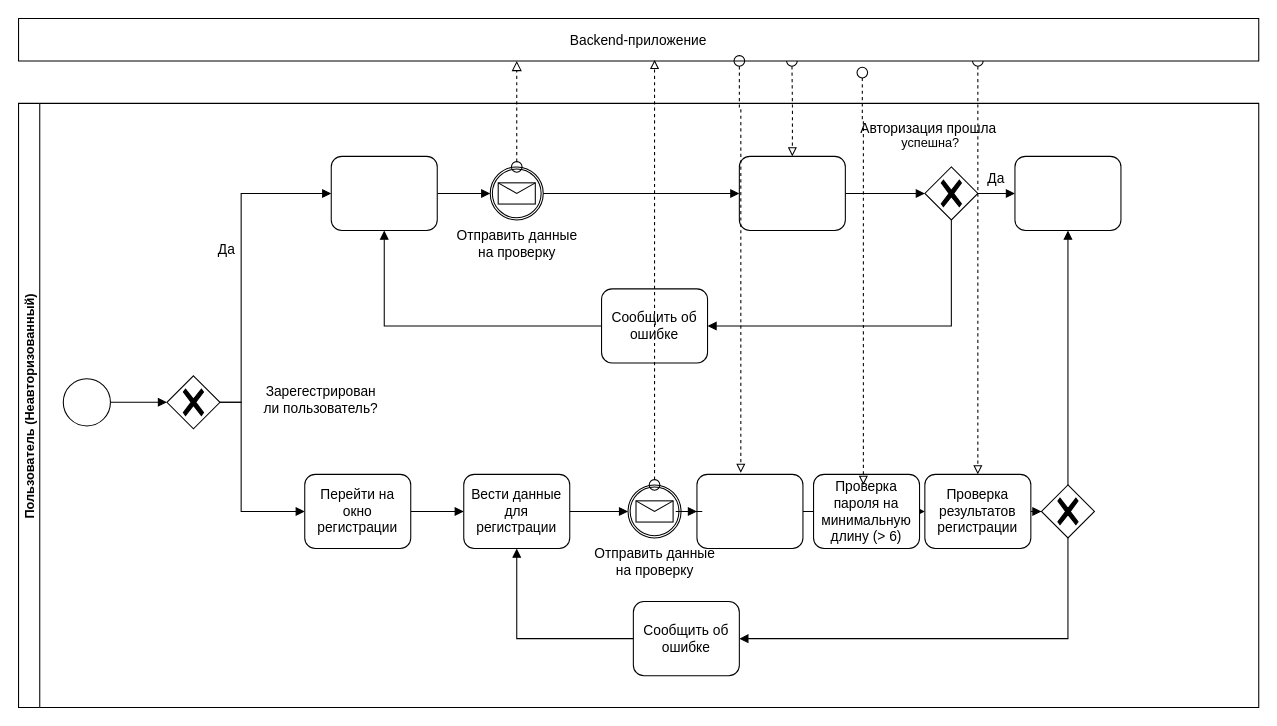
This 1277x726 diagram has some shape labels left out. Here are the shapes that lost their labels. From the top down, the centre of each, then its label:
(x=383, y=193): Вести логин и пароль
(x=791, y=193): Проверка соотвествия логина и пароля
(x=1067, y=193): Перевести пользователя на главную страницу
(x=86, y=402): Авторизоваться
(x=749, y=511): Поверка email на корректность и наличие в БД
